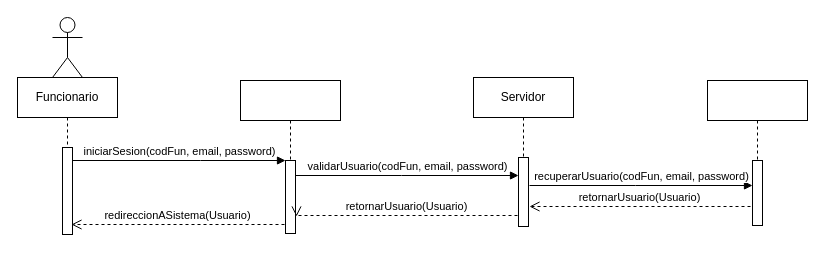
The diagram is 825 pixels wide and 253 high, and some of its shapes have lost their labels. Each missing label, with the centre of its shape:
"Base de datos" goes at pixel 757 153.
"Intefaz Gráfica" goes at pixel 290 157.
